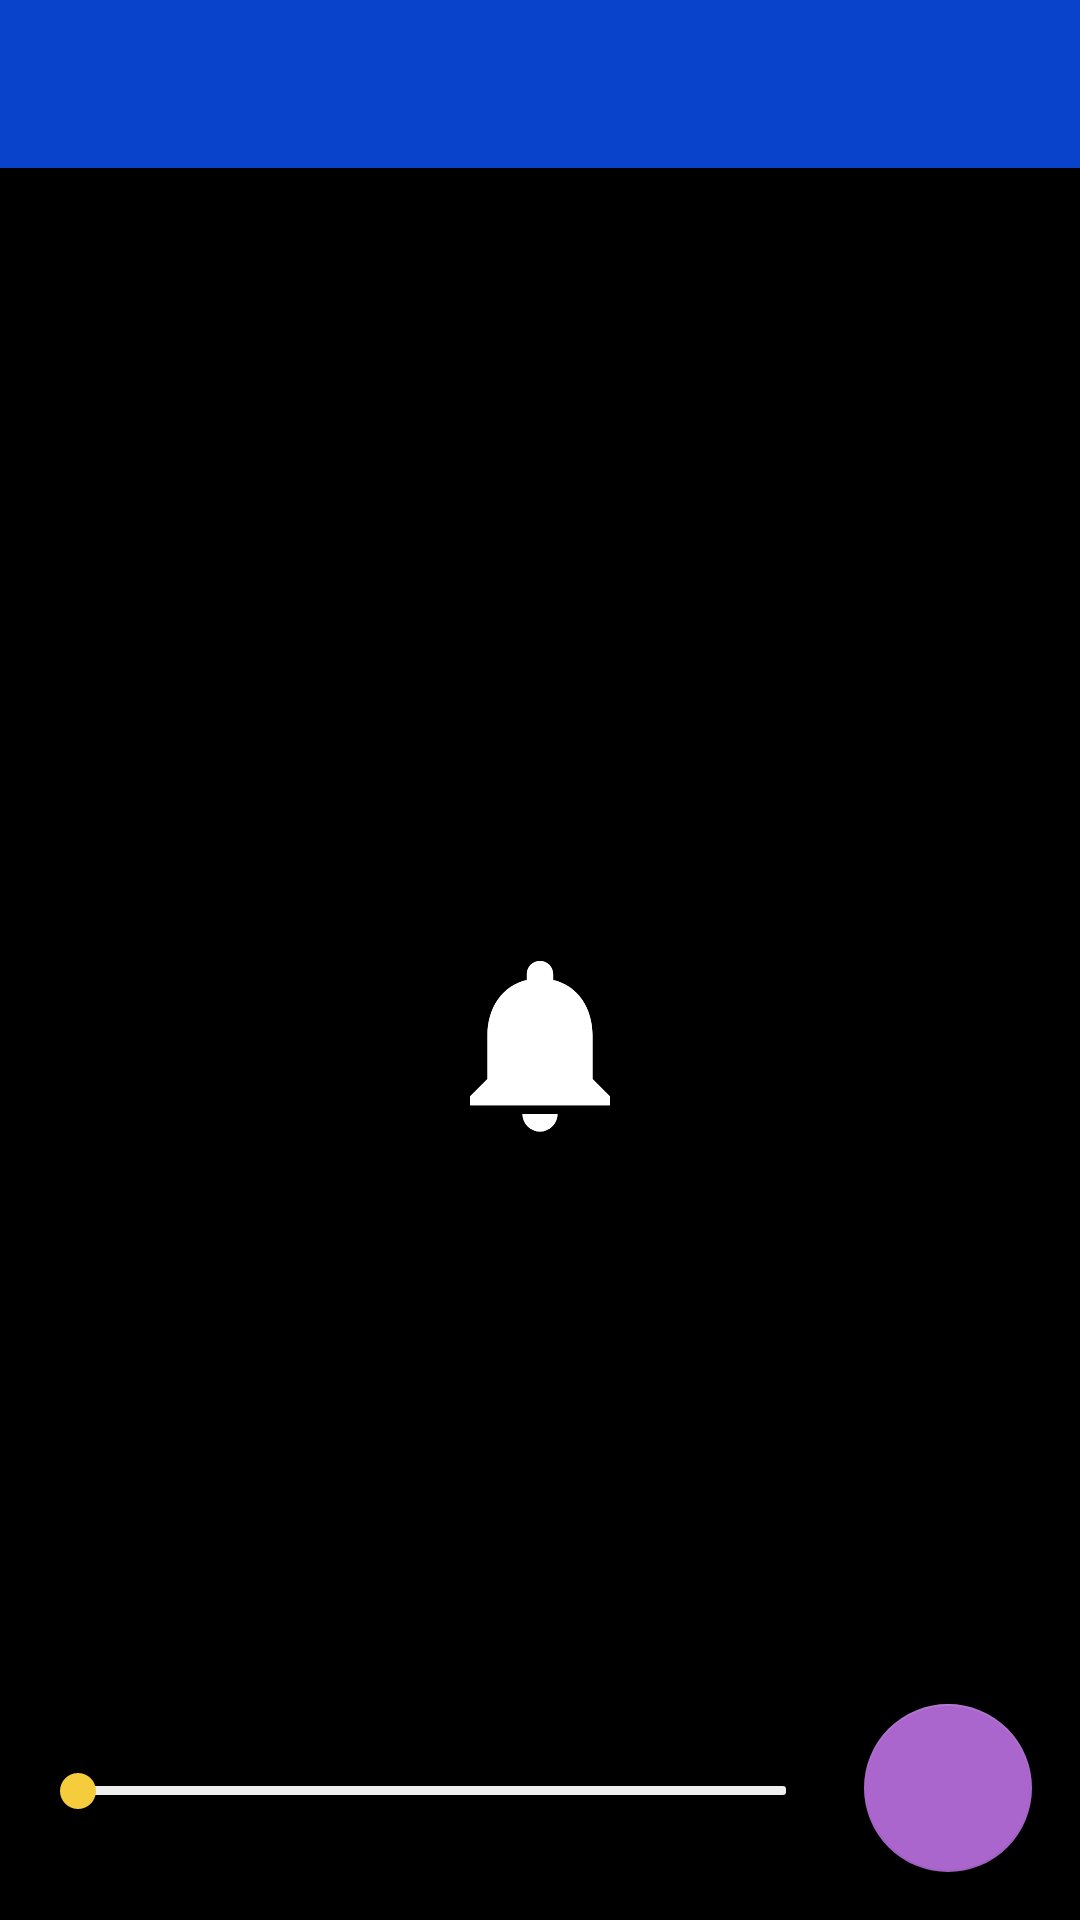

Icon bounding boxes for this 1080px×1920px phone screenshot, format Rect(x1, y1, x2, y2):
notification: Rect(470, 961, 610, 1132)
